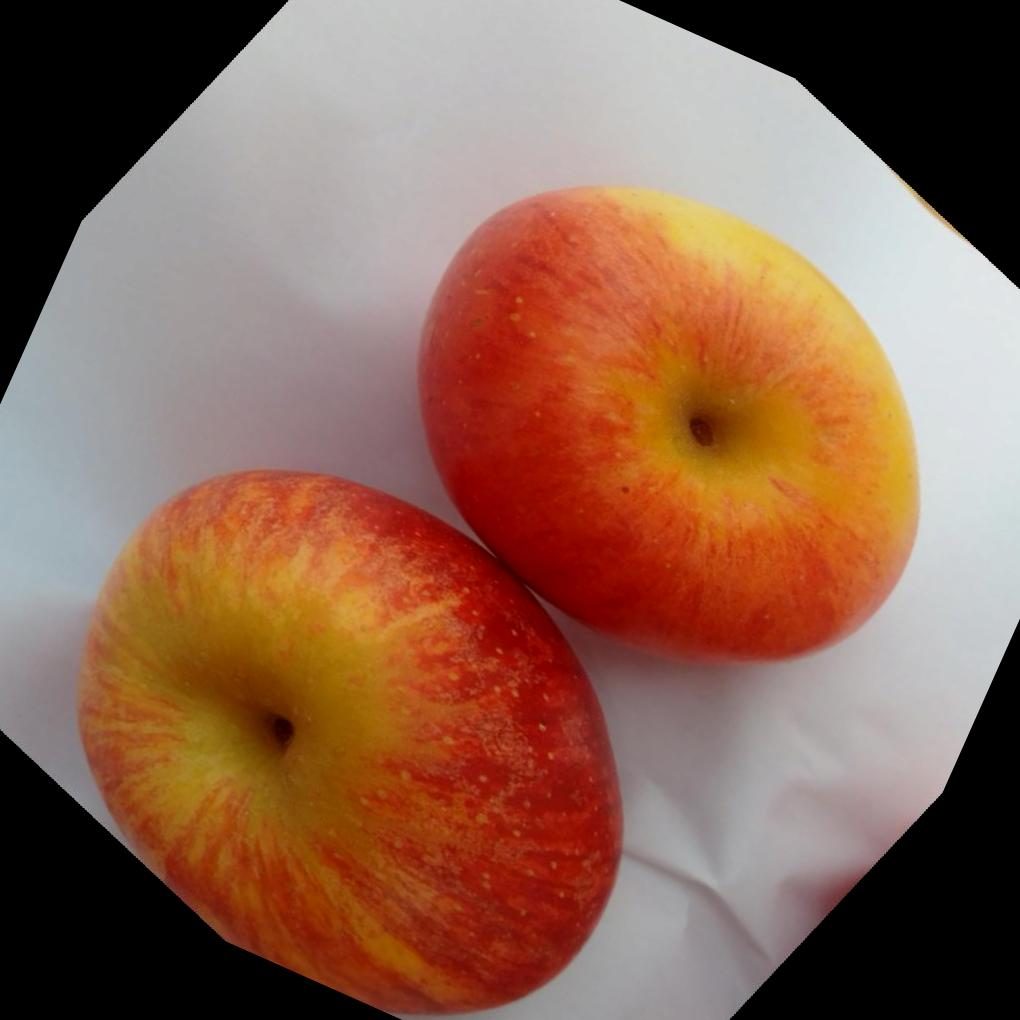FreshGuava: (68, 180, 920, 1020)
